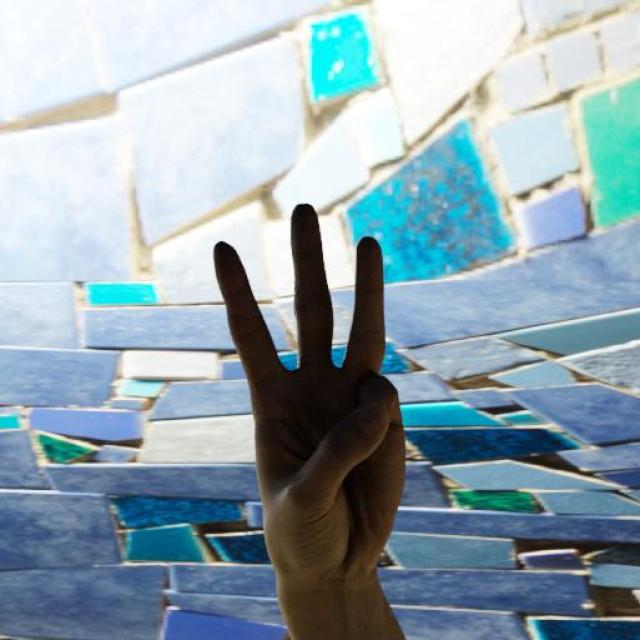W: (209, 197, 410, 588)
